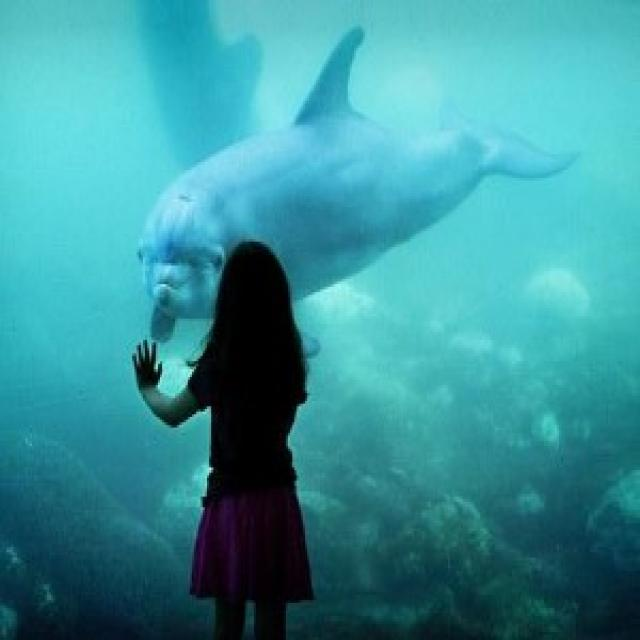Dolphin: (138, 117, 556, 330), (138, 5, 265, 176)
